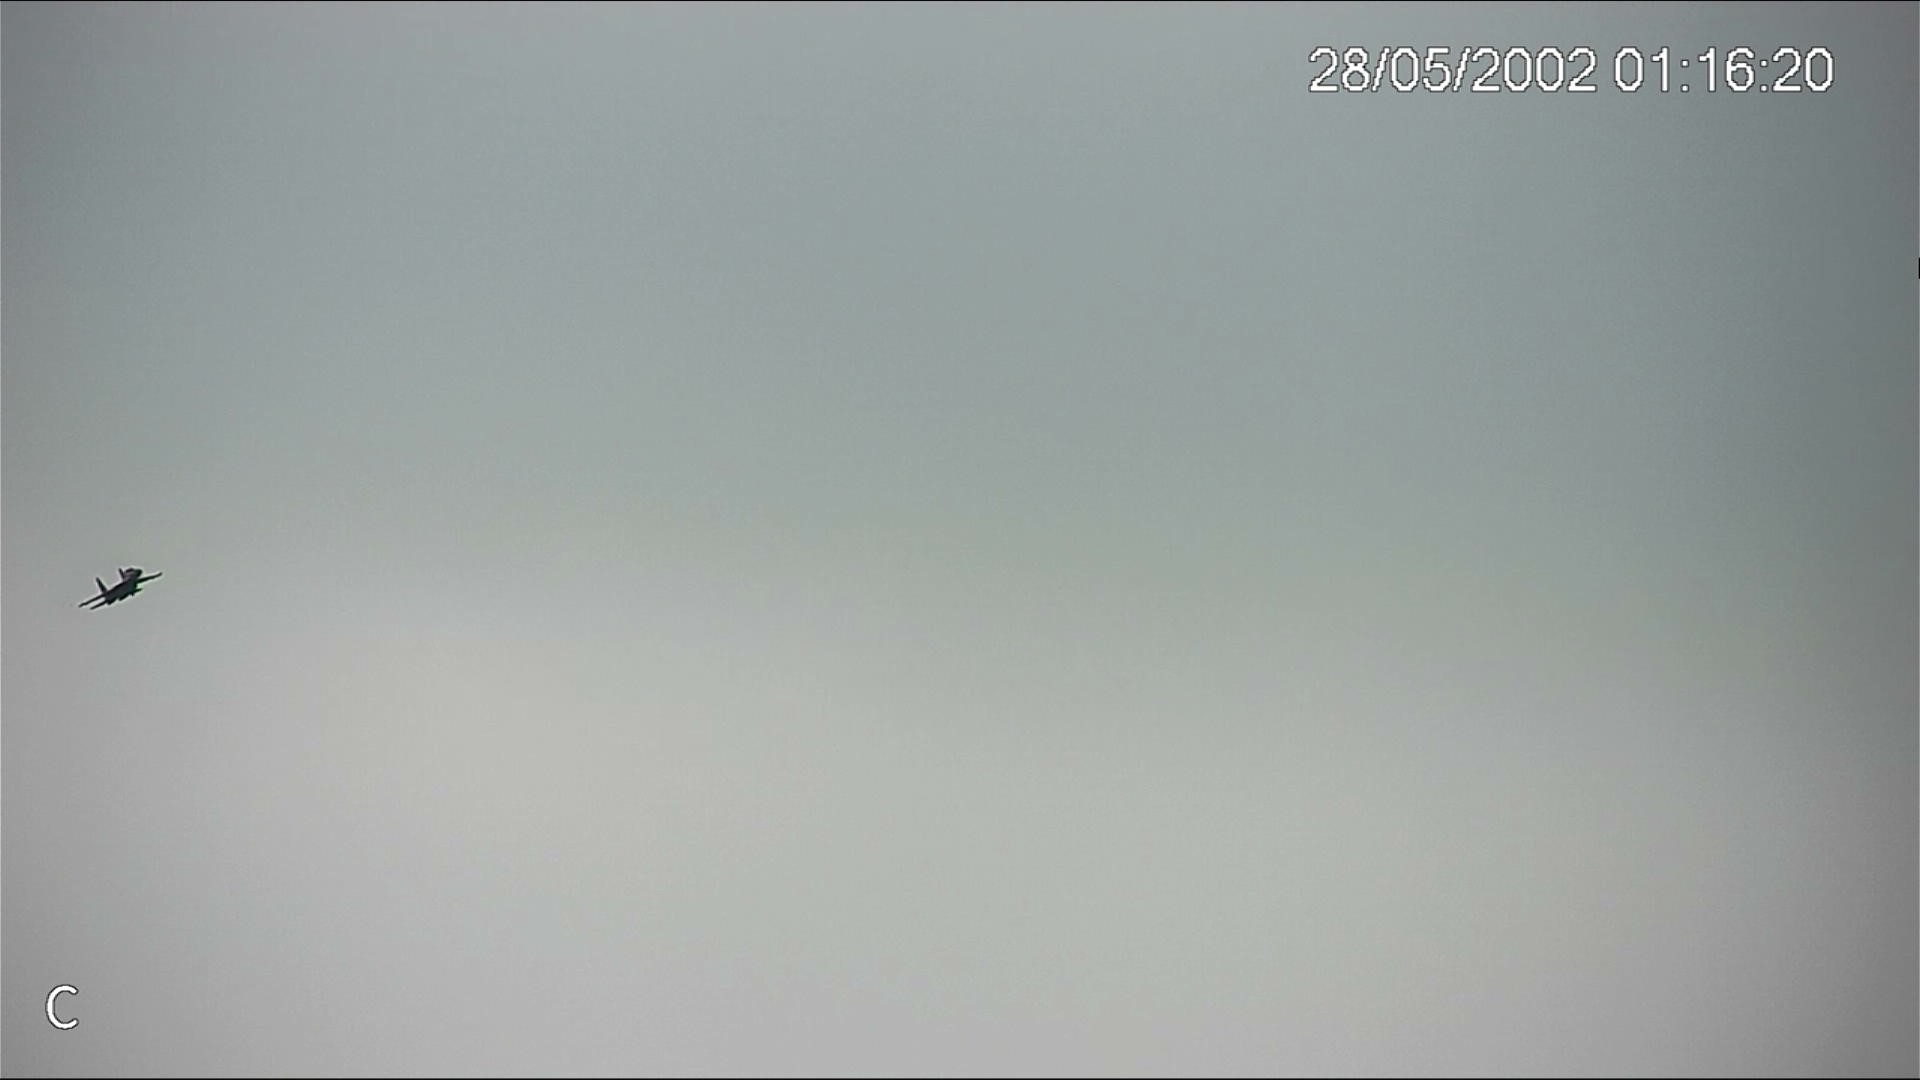SU_30: (74, 564, 164, 611)
